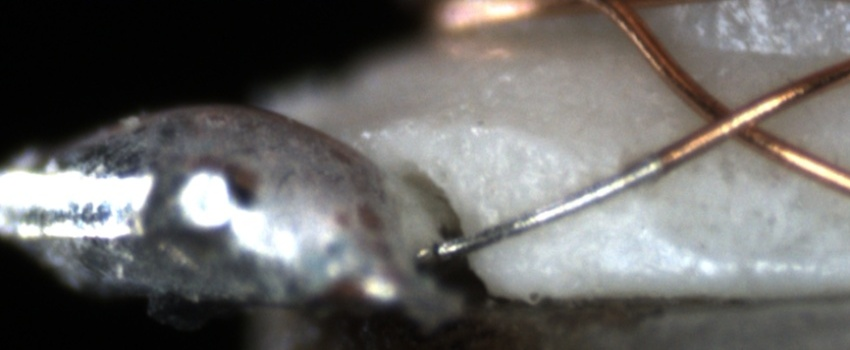CL: (682, 83, 784, 153)
TS: (439, 156, 663, 259)
